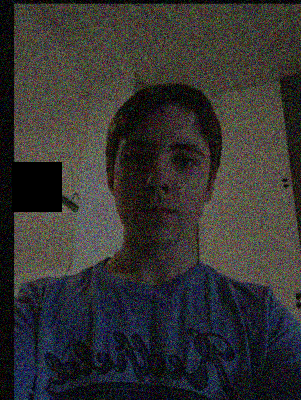without_mask: (113, 132, 208, 248)
